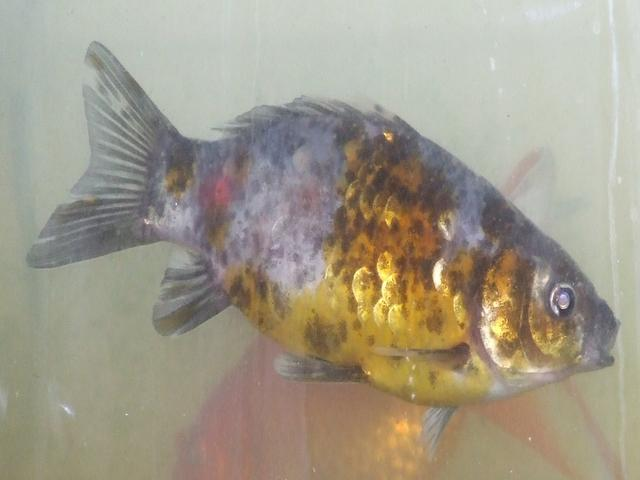fish: (27, 26, 640, 421)
